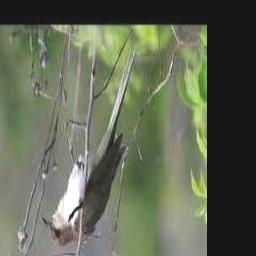Cuckoo: (42, 44, 137, 249)
